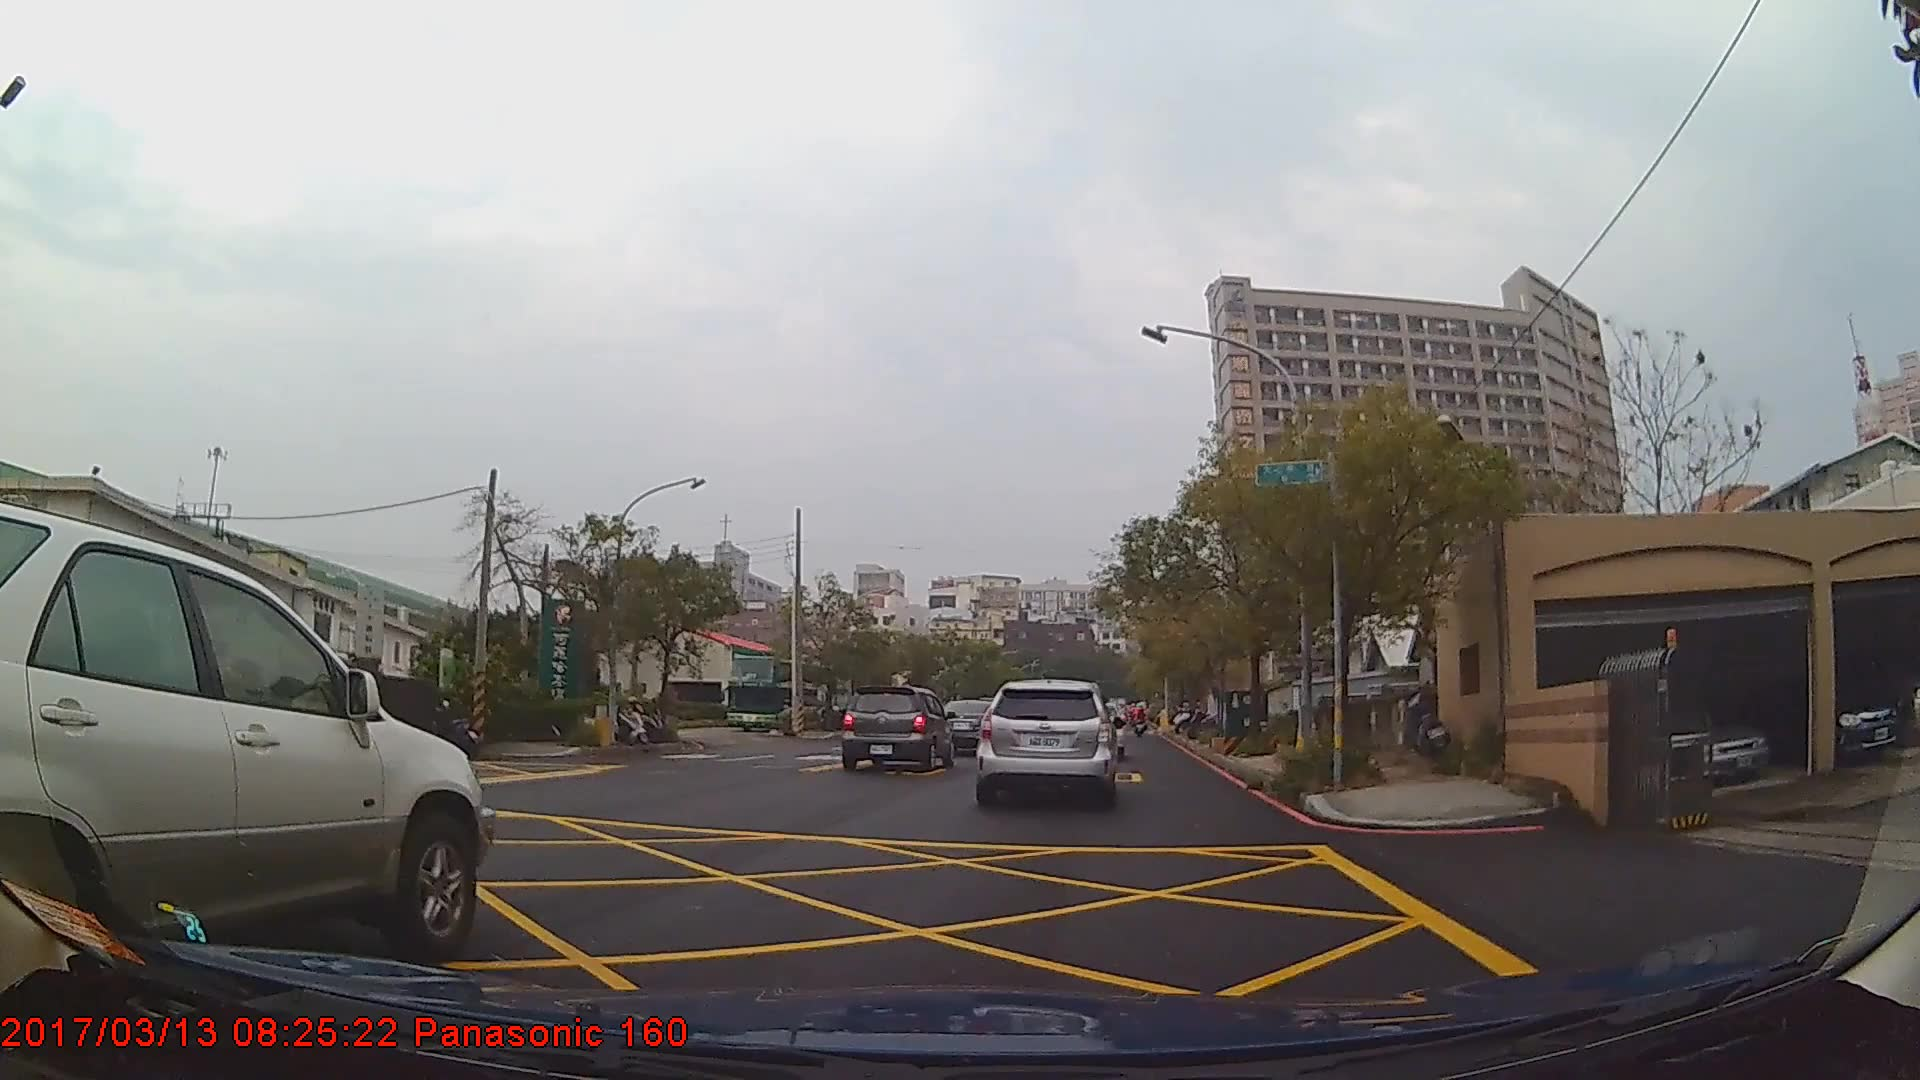vehicle: (0, 502, 495, 997), (975, 674, 1118, 802), (1642, 687, 1774, 785), (839, 682, 955, 767), (725, 653, 837, 731), (936, 695, 1004, 752)
